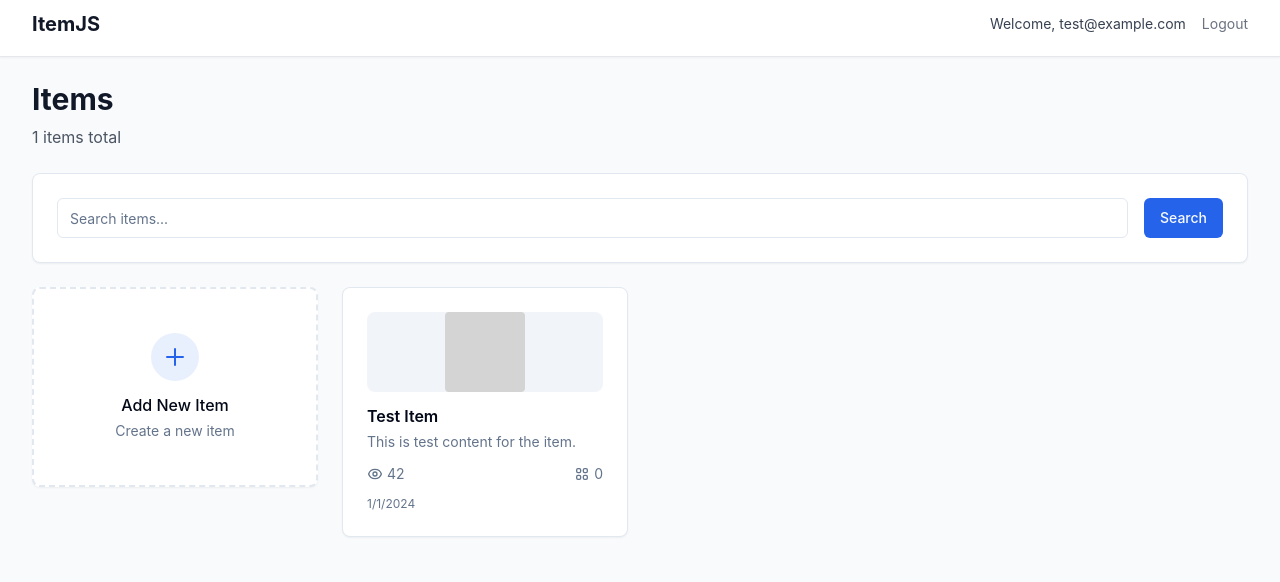
Test: ItemsIndex › handles search functionality
Type in search input
Type "test query" into the field with placeholder "Search items...".
click(592, 218); type("test query")  # box [57,198,1128,238]
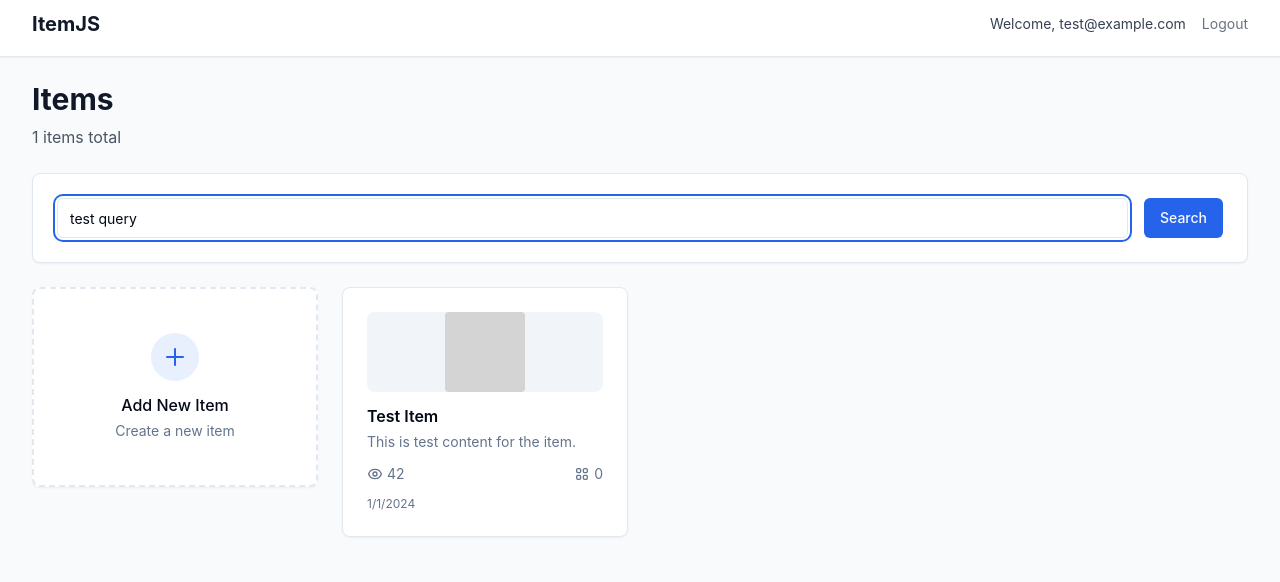
Click the button with aria-label "Submit search".
click(1184, 218)  # box [1144,198,1223,238]
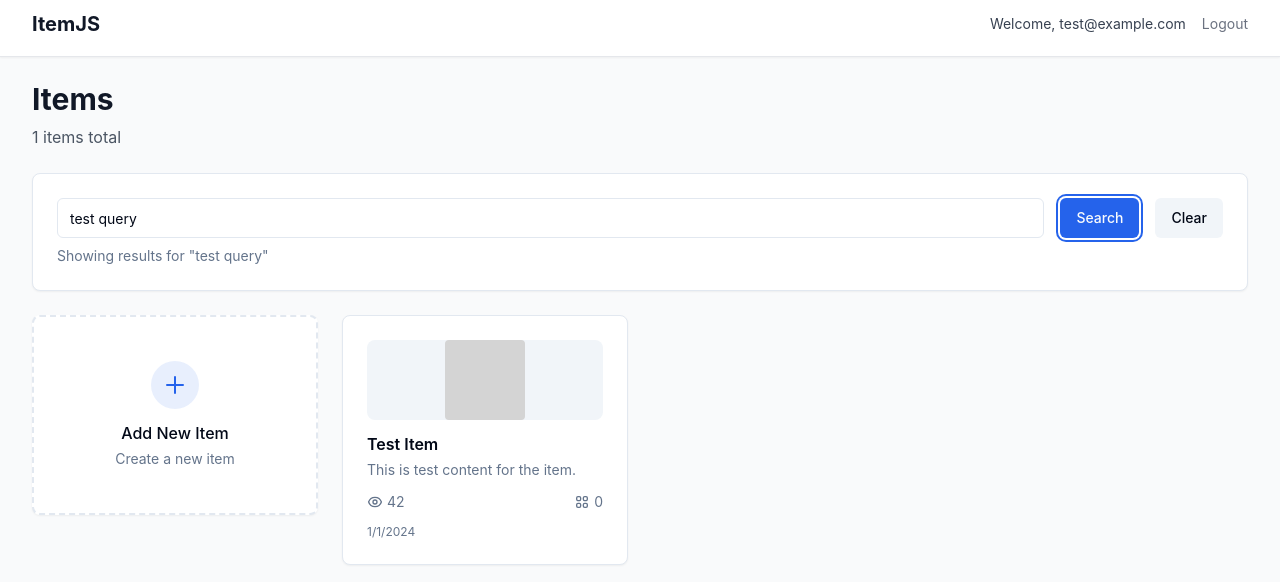
Now the message reads "Showing results for \"test query\"", box [57,247,269,264]
Now the button with aria-label "Clear search results" is shown, box [1156,198,1223,238]
